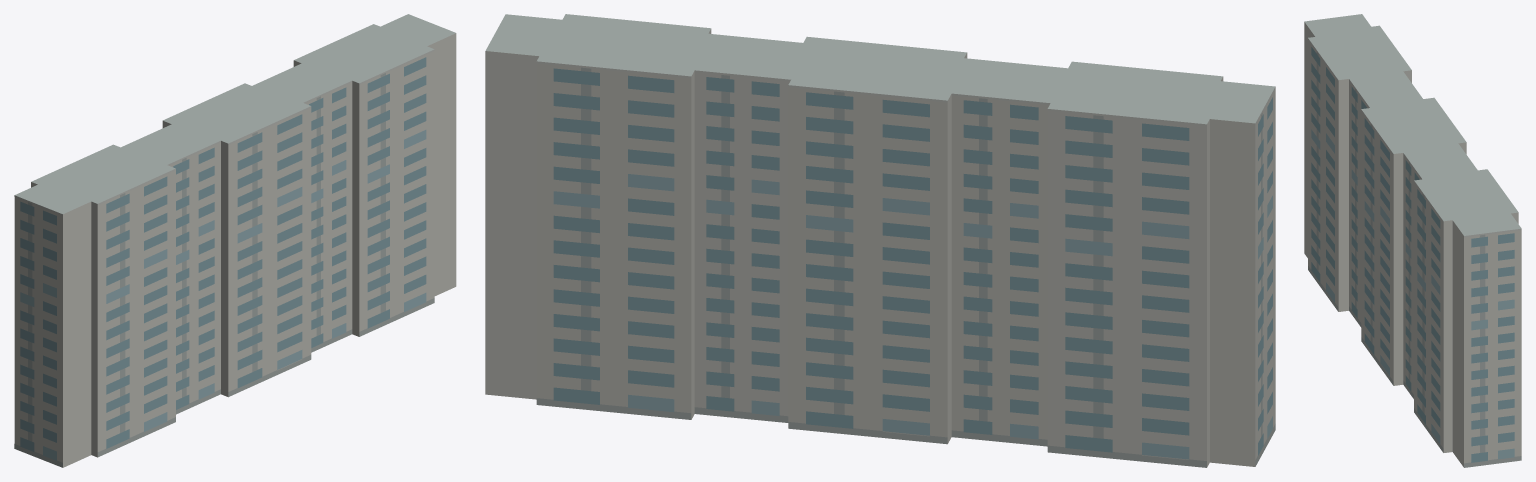
The model's file is residential-cea02682-95b9-475b-aa24-d6c7cd1355e7.glb.
The picture shows the model from 3 angles, left to right: view 1: azimuth 30°, elevation 25°; view 2: azimuth 150°, elevation 25°; view 3: azimuth 270°, elevation 25°; orthographic projection. The views are drawn at different scales.
Visible parts, largest first — view 1: residential-cea02682-95b9-475b-aa24-d6c7cd1355e7.tmp; view 2: residential-cea02682-95b9-475b-aa24-d6c7cd1355e7.tmp; view 3: residential-cea02682-95b9-475b-aa24-d6c7cd1355e7.tmp.
Boxes of the visible parts, box(x1,y1,x2,y2) form: residential-cea02682-95b9-475b-aa24-d6c7cd1355e7.tmp: box(14, 14, 456, 467); residential-cea02682-95b9-475b-aa24-d6c7cd1355e7.tmp: box(485, 14, 1275, 467); residential-cea02682-95b9-475b-aa24-d6c7cd1355e7.tmp: box(1304, 14, 1521, 467).
Size of the model in its own units: 87.7 by 42.7 by 36.3.
